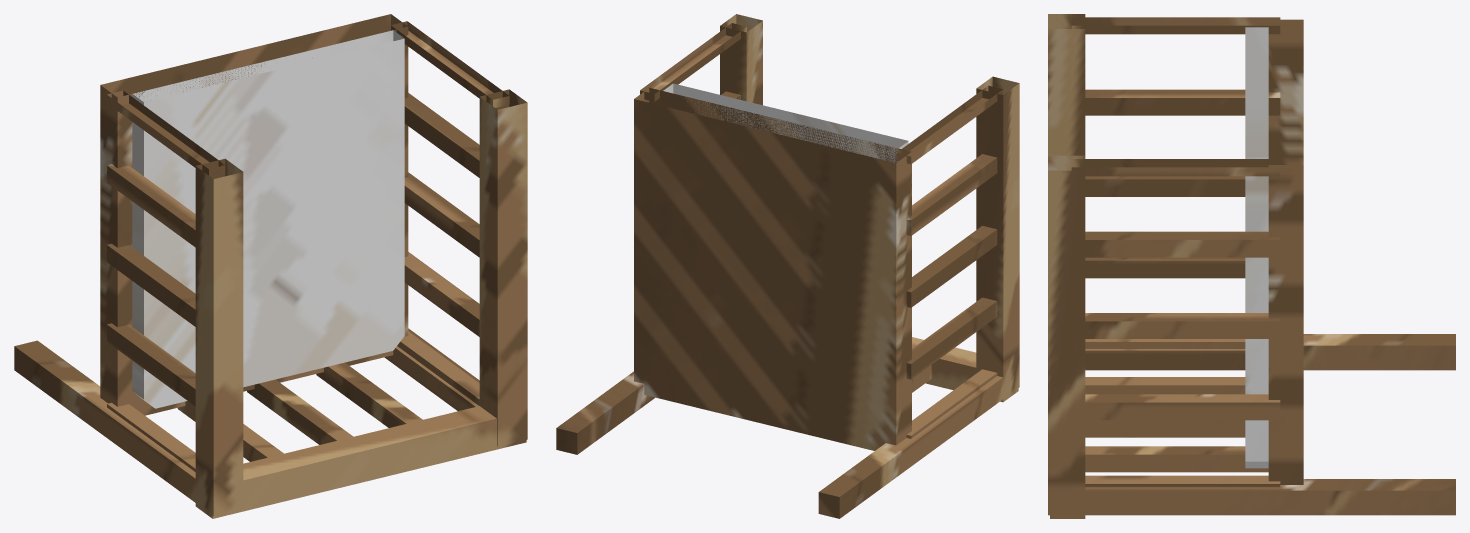
The model's file is pz_bed_bedding_01_oak_0_0.obj.
3 renders of one model, left to right at view 1: azimuth 30°, elevation 25°; view 2: azimuth 150°, elevation 25°; view 3: azimuth 270°, elevation 25°, orthographic. The views are drawn at different scales.
Visible parts, largest first — view 1: root; view 2: root; view 3: root.
Boxes of the visible parts, x1=… form: root: x1=14, y1=14, x2=527, y2=518; root: x1=556, y1=14, x2=1019, y2=518; root: x1=1048, y1=14, x2=1455, y2=518.
Bounding box in the file's own units: 0.95 × 0.985 × 1.04.
1 material, 1 textured.
